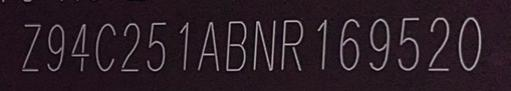letter: (396, 13, 422, 76), (456, 15, 482, 74), (251, 19, 278, 74), (426, 14, 451, 73), (17, 21, 44, 74), (196, 19, 222, 74), (224, 19, 250, 74), (367, 17, 392, 72), (279, 18, 304, 73), (338, 15, 362, 72), (94, 21, 119, 74), (145, 19, 169, 74), (68, 21, 93, 72), (117, 20, 141, 73), (45, 22, 69, 75), (313, 17, 330, 70), (176, 21, 192, 72)
